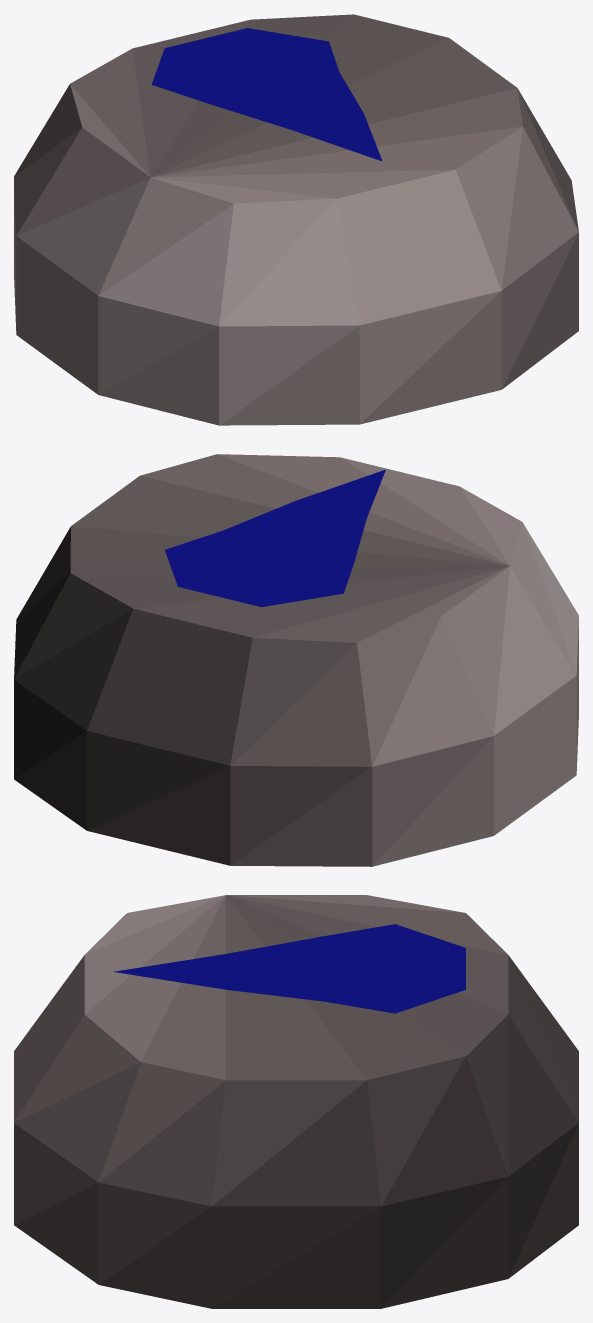
The model's file is water.obj.
3 renders of one model, top to bottom at view 1: azimuth 30°, elevation 25°; view 2: azimuth 150°, elevation 25°; view 3: azimuth 270°, elevation 25°, orthographic. The views are drawn at different scales.
Parts seen in each view (by area): view 1: Item Water rune 2026-09-20_20-15-25; view 2: Item Water rune 2026-09-20_20-15-25; view 3: Item Water rune 2026-09-20_20-15-25.
Boxes of the visible parts, <box> form: Item Water rune 2026-09-20_20-15-25: <box>14,14,578,425</box>; Item Water rune 2026-09-20_20-15-25: <box>14,454,578,866</box>; Item Water rune 2026-09-20_20-15-25: <box>14,895,578,1308</box>.
Bounding box in the file's own units: 40 × 17 × 40.
